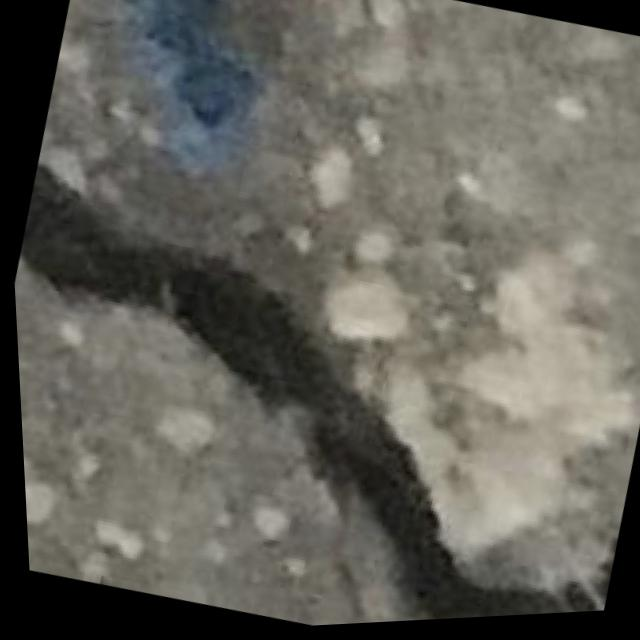Crack: (6, 126, 640, 640)
